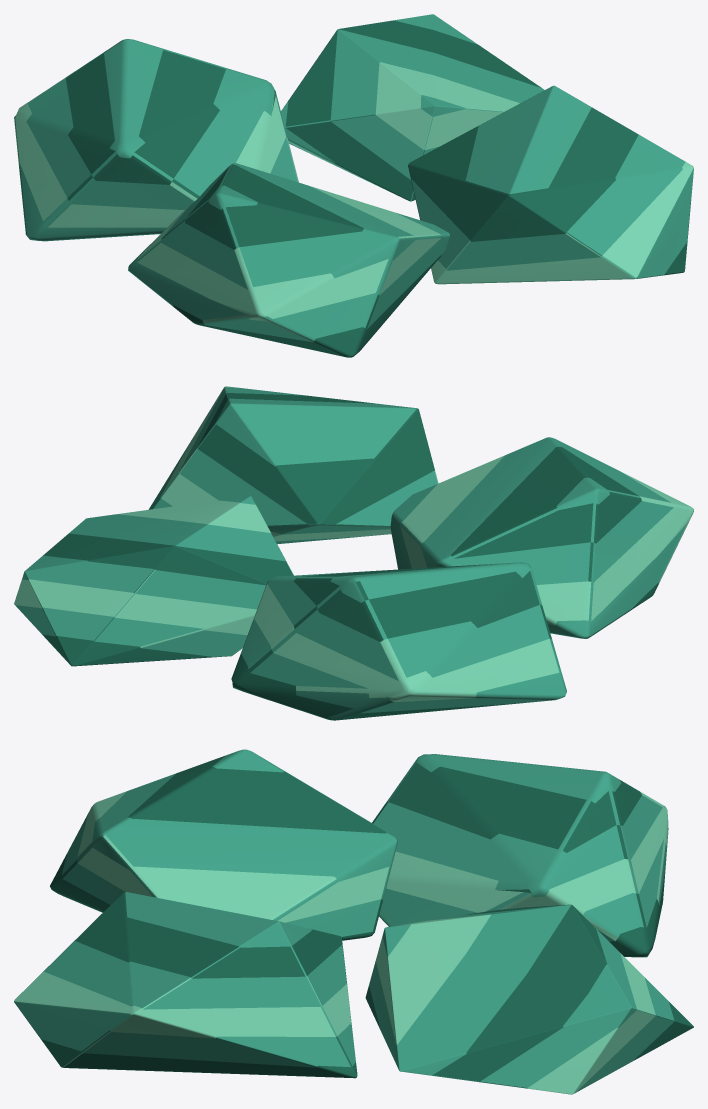
File: minerai_cuivre_1.glb
3 views of the same model, one above another, from view 1: azimuth 30°, elevation 25°; view 2: azimuth 150°, elevation 25°; view 3: azimuth 270°, elevation 25° (orthographic). The views are drawn at different scales.
Visible parts, largest first — view 1: minerai_malachite.004, minerai_malachite_sombre.004, minerai_malachite_claire.004; view 2: minerai_malachite.004, minerai_malachite_sombre.004, minerai_malachite_claire.004; view 3: minerai_malachite.004, minerai_malachite_sombre.004, minerai_malachite_claire.004.
Boxes of the visible parts, x1,y1,x2,y2 form: minerai_malachite.004: [19, 14, 693, 342]; minerai_malachite_sombre.004: [66, 20, 691, 357]; minerai_malachite_claire.004: [14, 62, 693, 342]; minerai_malachite.004: [15, 387, 686, 719]; minerai_malachite_sombre.004: [42, 393, 658, 720]; minerai_malachite_claire.004: [14, 386, 693, 701]; minerai_malachite.004: [14, 749, 674, 1091]; minerai_malachite_sombre.004: [41, 755, 693, 1088]; minerai_malachite_claire.004: [14, 791, 668, 1094].
Size of the model in its own units: 0.5101 by 0.1166 by 0.5356.
